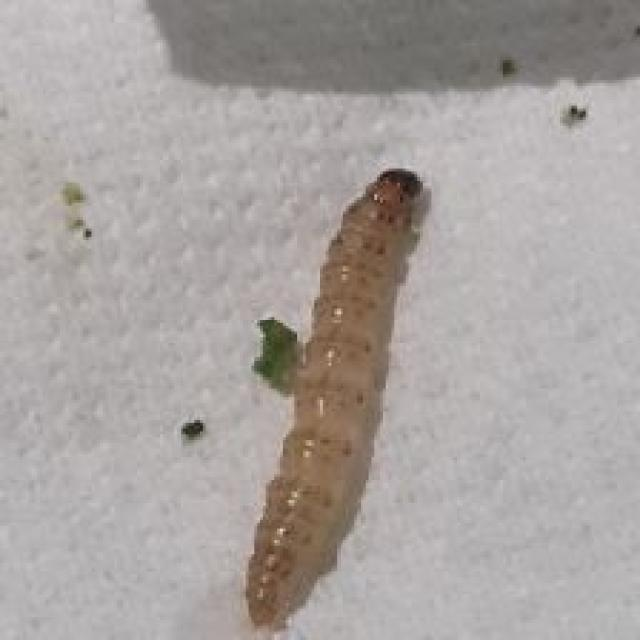white mucus: (196, 133, 446, 626)
